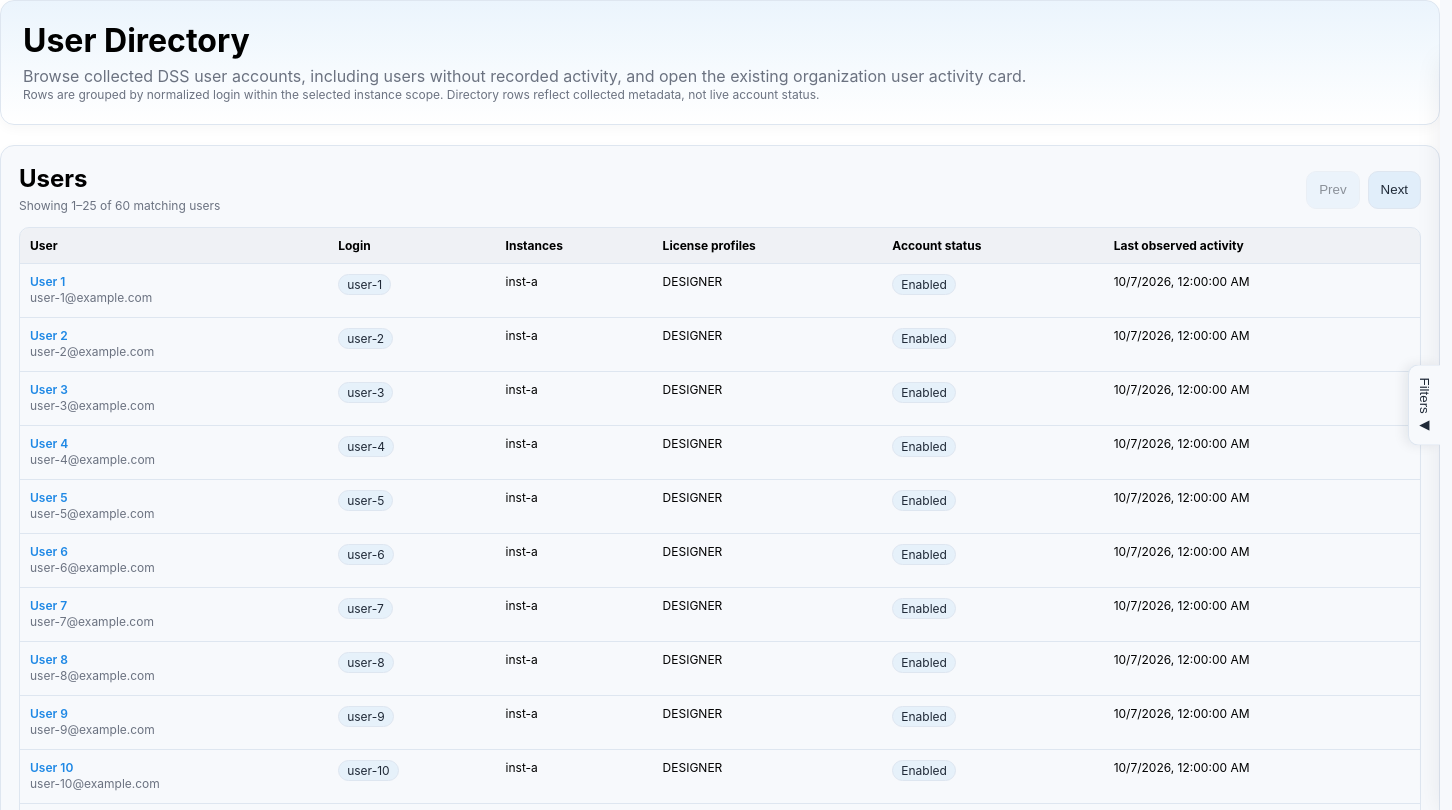
it: UsersDirectoryPage › traverses non-overlapping directory pages for total=60
Expected: the text "Showing 1–25 of 60 matching users" is shown, [19,197,220,215]
Click the button "Next": x=1394, y=190 [1368,170,1421,208]
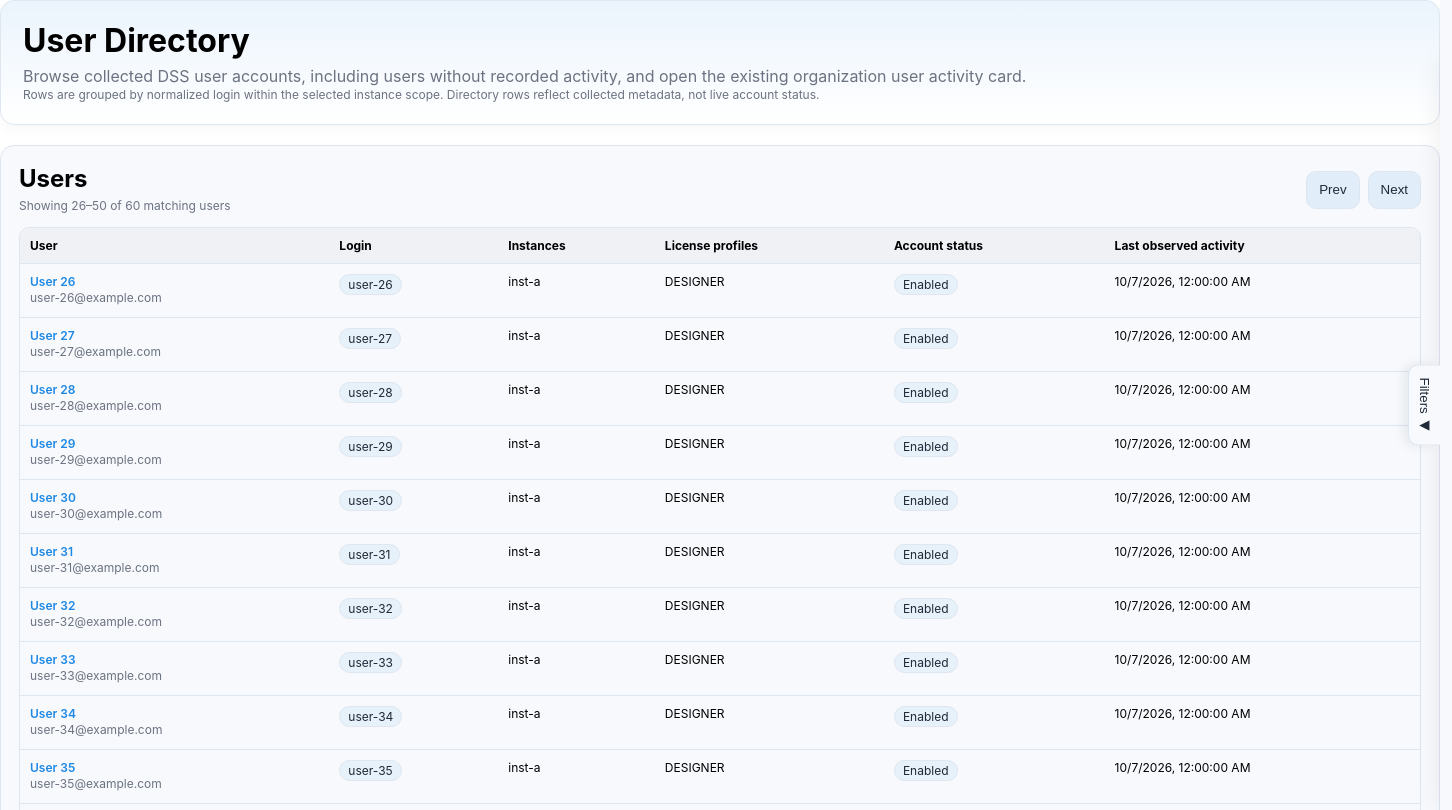
Expected: the text "Showing 26–50 of 60 matching users" is shown, [19,197,231,215]
Expected: the button "User 26" is shown, [30,274,76,289]
Click the button "Next": x=1394, y=190 [1368,170,1421,208]
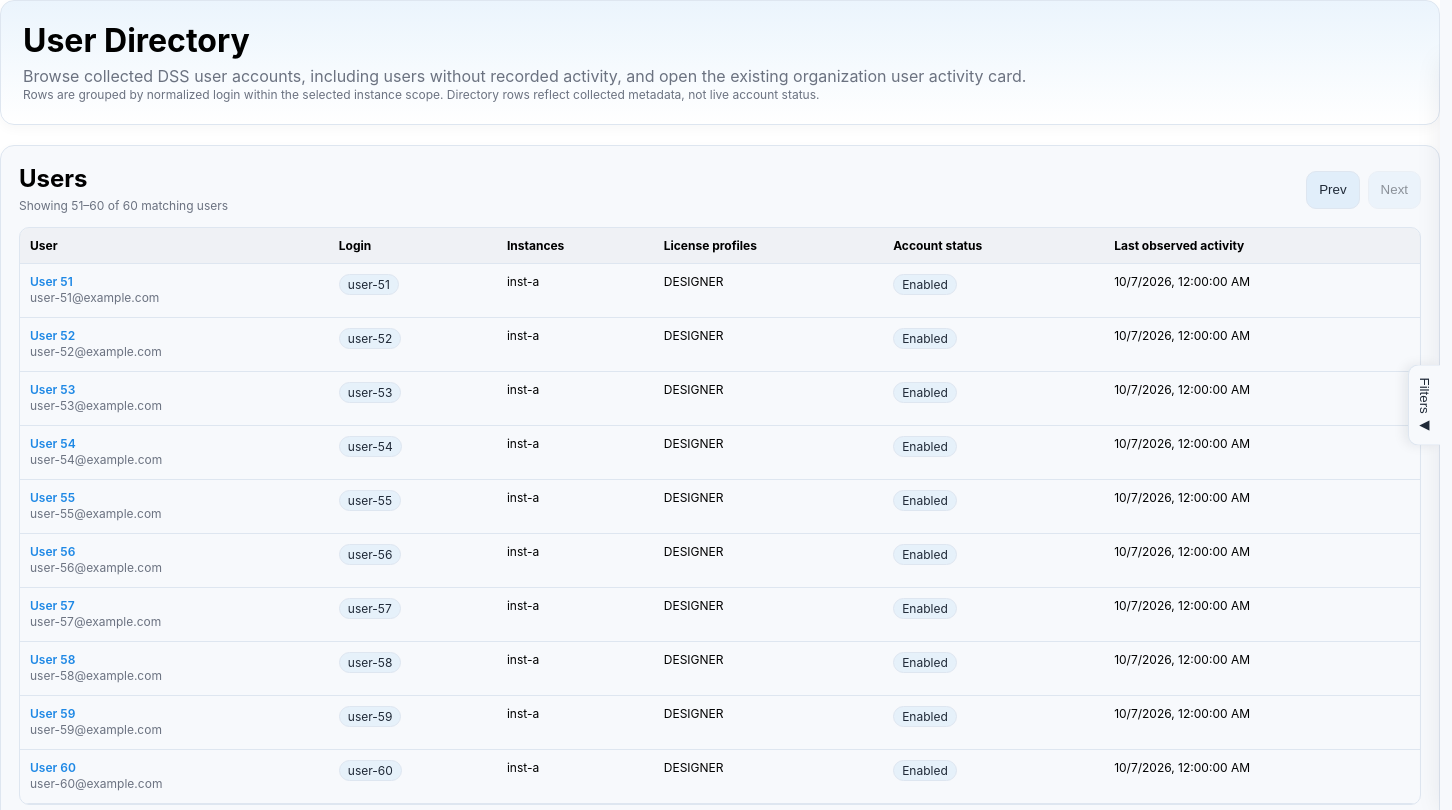
Expected: the text "Showing 51–60 of 60 matching users" is shown, [19,197,228,215]
Expected: the button "Next" is disabled, [1368,170,1421,208]
Click the button "Prev": x=1333, y=190 [1306,170,1360,208]
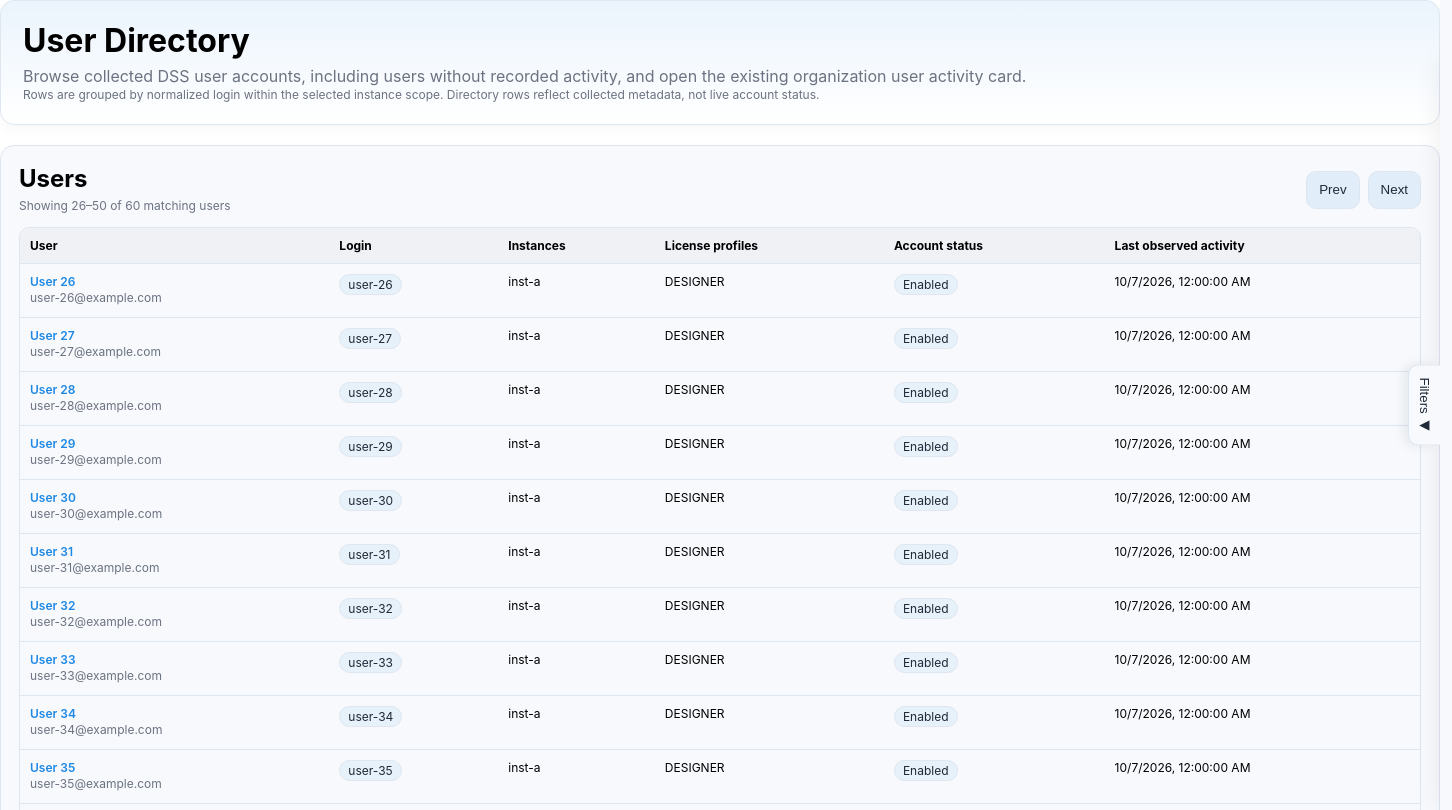
Expected: the text "Showing 26–50 of 60 matching users" is shown, [19,197,231,215]
